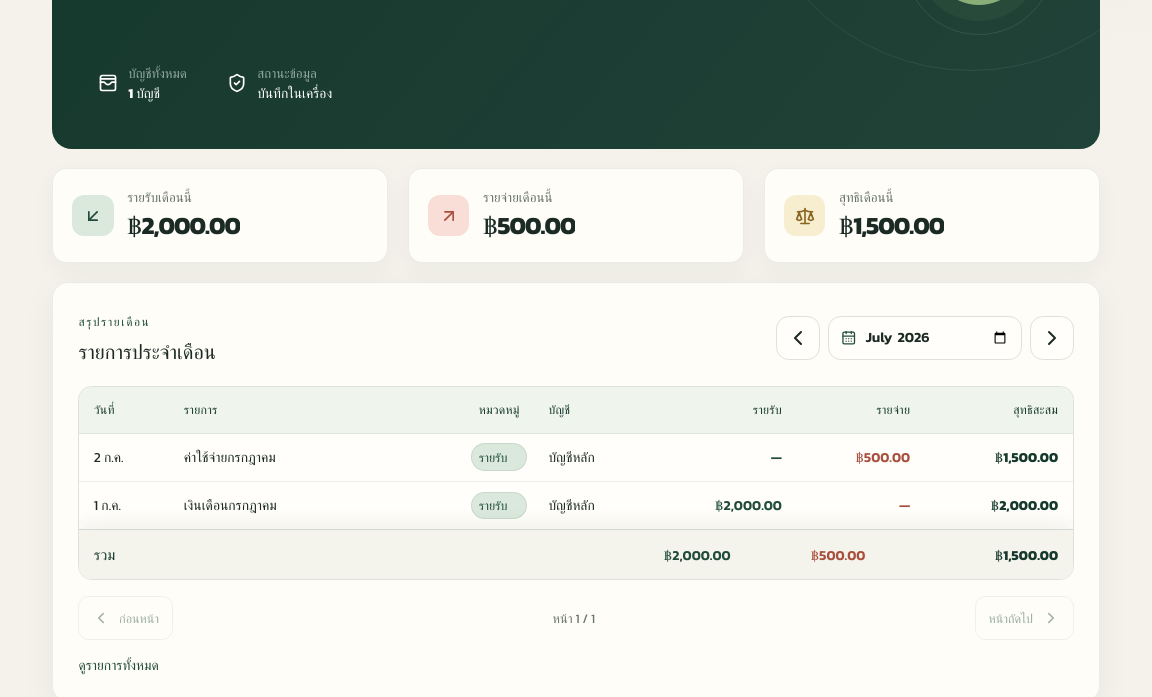
Test case: OverviewPage › updates the summary cards and transactions for the selected month
(page scrolled)
Expected: the text "฿2,000.00" is shown, [127,207,240,244]
Expected: the text "เงินเดือนกรกฎาคม" is shown, [169,482,464,529]
Replace the text in the field named "เลือกเดือน" with "2026-06": (937, 338) [865,316,1009,360]
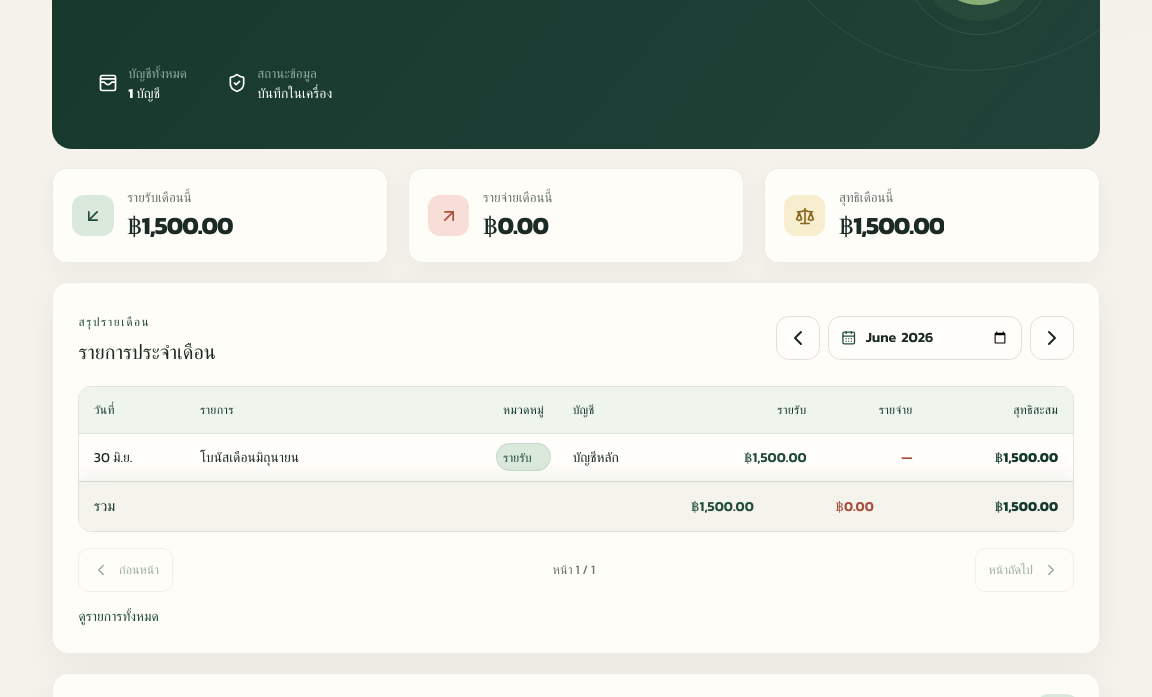
Now the text "฿1,500.00" below "รายรับเดือนนี้" is shown, box [127,207,233,244]
Now the text "โบนัสเดือนมิถุนายน" is shown, box [186,434,488,481]
Now the text "เงินเดือนกรกฎาคม" is gone
